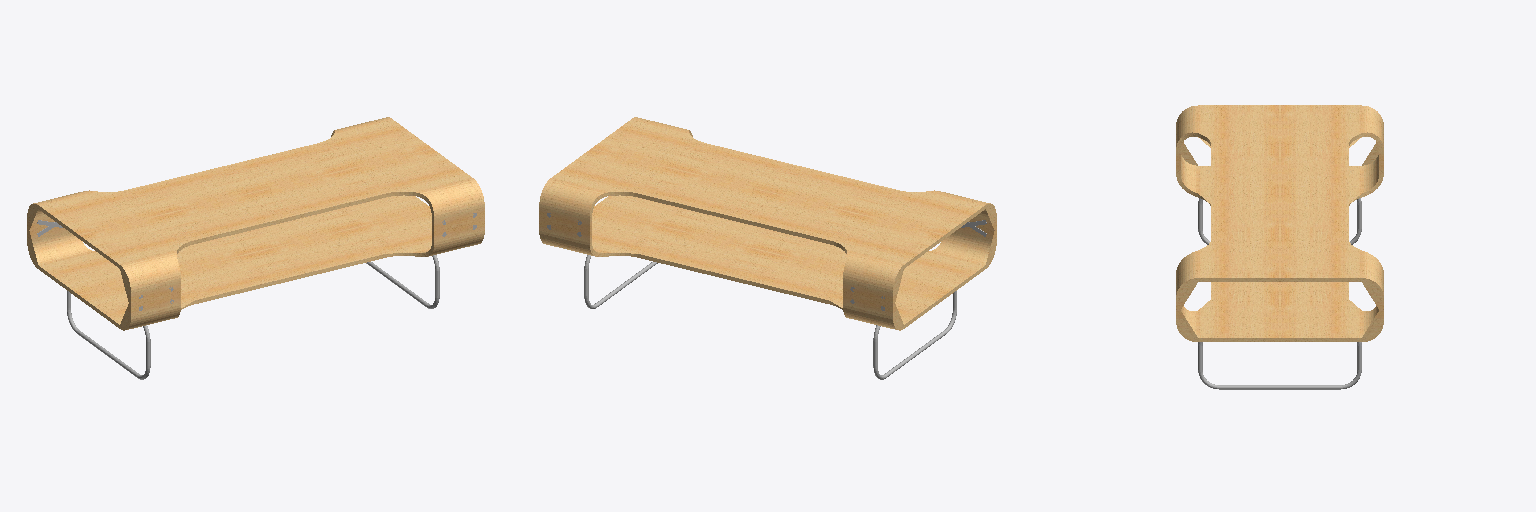
3 views of the same model, side by side, from view 1: azimuth 30°, elevation 25°; view 2: azimuth 150°, elevation 25°; view 3: azimuth 270°, elevation 25° (orthographic).
Parts seen in each view (by area): view 1: Buskbo1-Entity3076, Buskbo1-Entity3078, Boskbo-Leg1-Entity14422, Boskbo-Leg1-Entity14424; view 2: Buskbo1-Entity3076, Buskbo1-Entity3078, Boskbo-Leg1-Entity14422, Boskbo-Leg1-Entity14424; view 3: Buskbo1-Entity3076, Buskbo1-Entity3078, Boskbo-Leg1-Entity14424.
Part boxes in pixels (x1,y1,x2,y2): Buskbo1-Entity3076: (27,117,484,304); Buskbo1-Entity3078: (27,197,484,330); Boskbo-Leg1-Entity14422: (67,291,150,379); Boskbo-Leg1-Entity14424: (366,255,439,308); Buskbo1-Entity3076: (539,117,996,304); Buskbo1-Entity3078: (539,197,996,330); Boskbo-Leg1-Entity14422: (873,291,956,379); Boskbo-Leg1-Entity14424: (584,255,657,308); Buskbo1-Entity3076: (1176,105,1383,309); Buskbo1-Entity3078: (1176,142,1383,341); Boskbo-Leg1-Entity14424: (1198,342,1361,389).
Bounding box in the file's own units: 46.5 × 16.12 × 23.62.
3 materials, 1 textured.